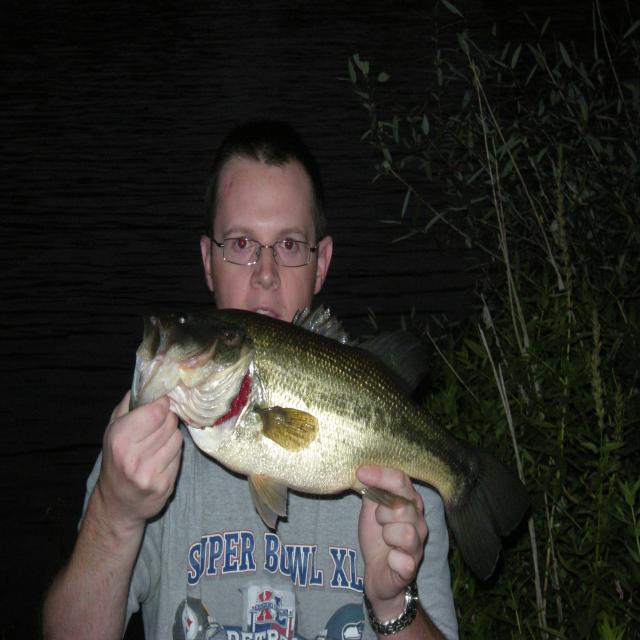Bass - Largemouth: (130, 309, 529, 579)
